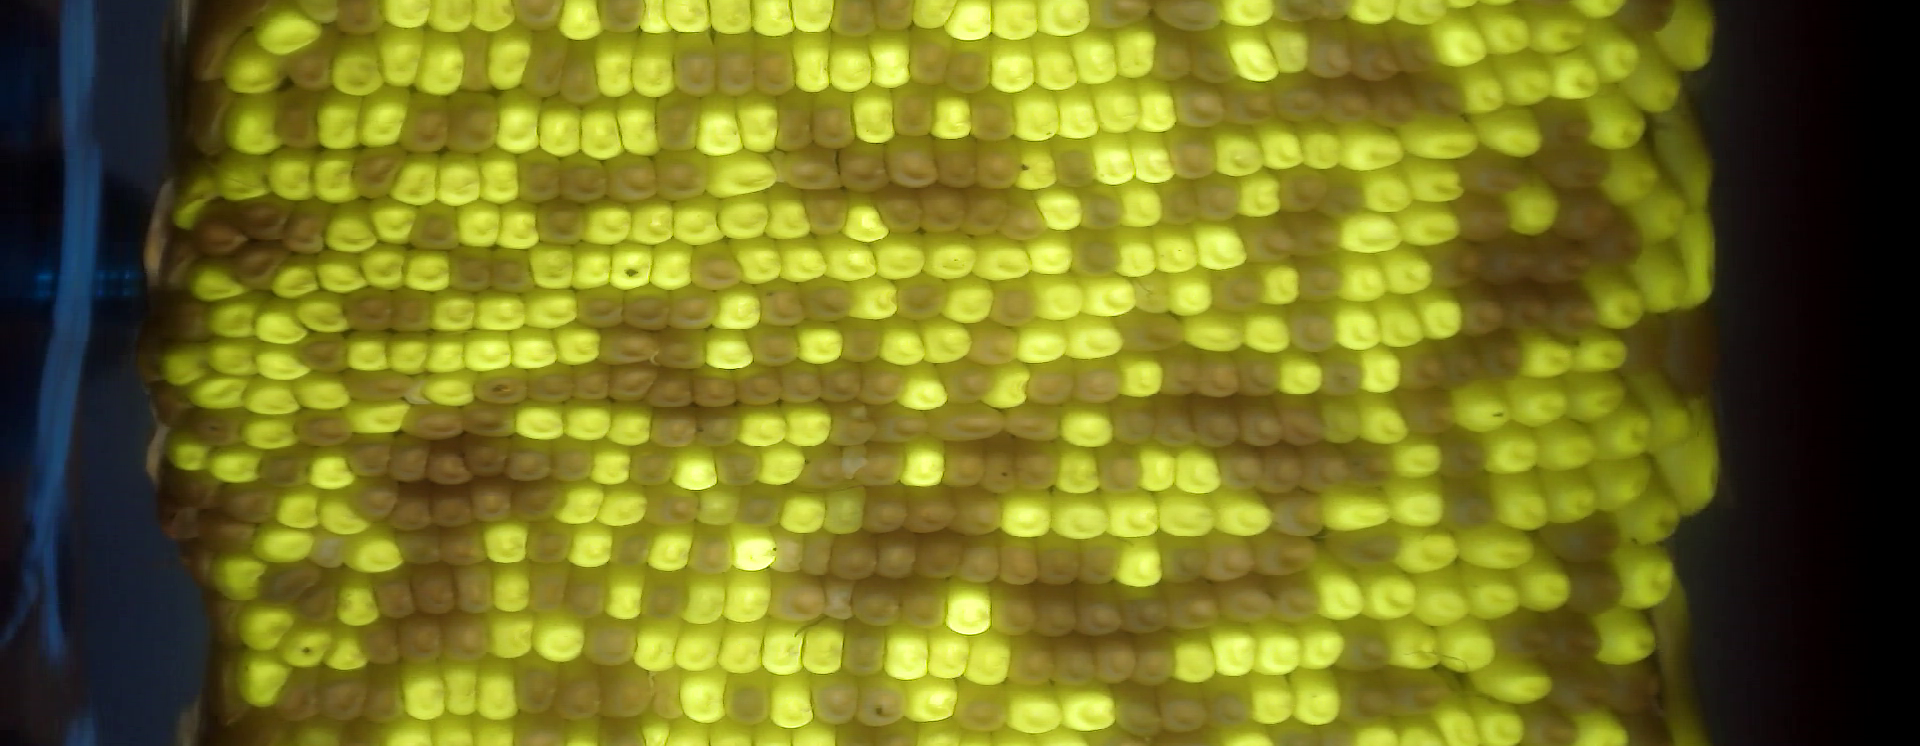fluorescent: (1659, 122, 1724, 211), (1665, 418, 1724, 512), (1629, 374, 1692, 451), (1582, 258, 1646, 334), (1633, 243, 1693, 317), (1473, 103, 1545, 160), (1615, 545, 1681, 606), (1310, 551, 1365, 624), (1681, 211, 1722, 309), (1412, 559, 1468, 628), (1403, 111, 1483, 160), (1593, 604, 1657, 664), (224, 34, 291, 91), (225, 92, 284, 156), (1624, 483, 1678, 549), (1152, 486, 1220, 539), (1480, 659, 1555, 706), (1494, 469, 1551, 529), (1457, 524, 1533, 570), (1663, 6, 1717, 70), (1593, 91, 1651, 149), (256, 4, 323, 54), (1431, 7, 1488, 67), (1630, 181, 1686, 241), (1515, 557, 1575, 614), (1509, 379, 1577, 428), (1442, 617, 1500, 675), (1592, 401, 1651, 457), (1054, 486, 1113, 543), (493, 88, 542, 156), (1504, 176, 1558, 238), (1587, 17, 1640, 80), (1226, 24, 1281, 83), (1056, 682, 1119, 733), (1079, 272, 1147, 318), (1209, 488, 1273, 537), (1382, 616, 1439, 673), (531, 606, 587, 664), (1529, 2, 1588, 56), (1320, 488, 1396, 529), (1520, 327, 1580, 380), (1289, 669, 1342, 729), (230, 599, 291, 650), (1598, 454, 1654, 510), (558, 518, 613, 575), (331, 37, 383, 96), (419, 33, 465, 99), (718, 612, 768, 674), (711, 149, 779, 195), (1342, 124, 1409, 169), (694, 92, 742, 156), (962, 624, 1010, 687), (234, 655, 291, 708), (1539, 420, 1598, 472), (944, 578, 993, 639), (1167, 628, 1220, 685), (631, 36, 677, 99), (1565, 376, 1629, 423), (1298, 612, 1344, 676), (1104, 492, 1162, 544), (1404, 156, 1464, 205), (866, 29, 913, 91), (1402, 201, 1463, 249), (378, 24, 422, 91), (1411, 287, 1464, 341), (846, 272, 902, 323), (1356, 393, 1412, 445), (1010, 86, 1060, 143), (1209, 619, 1258, 677), (360, 87, 407, 148), (1457, 381, 1512, 432), (605, 236, 655, 293), (1610, 149, 1660, 206), (402, 664, 452, 720), (765, 674, 816, 730), (1498, 55, 1555, 104), (1030, 274, 1089, 322), (441, 661, 489, 720), (596, 33, 638, 100), (578, 195, 631, 247), (677, 674, 731, 725), (1392, 480, 1447, 530), (1005, 684, 1060, 734), (1033, 34, 1082, 91), (1151, 218, 1200, 274), (880, 624, 929, 680), (853, 86, 898, 148), (735, 92, 779, 154), (1356, 164, 1413, 212), (324, 207, 382, 255), (975, 230, 1033, 277), (765, 619, 812, 677), (1367, 566, 1413, 625), (538, 97, 580, 160), (251, 522, 315, 565), (1213, 122, 1265, 175), (312, 151, 362, 205), (1340, 254, 1393, 304), (1158, 267, 1213, 316), (1188, 309, 1249, 353), (489, 604, 538, 659), (1463, 571, 1518, 620), (1493, 424, 1540, 480), (582, 99, 624, 162), (214, 153, 273, 198), (800, 616, 845, 675), (489, 24, 530, 88), (1545, 470, 1596, 523), (1000, 490, 1054, 539), (1056, 441, 1103, 496), (1341, 212, 1402, 255), (828, 36, 873, 93), (1135, 77, 1180, 135), (726, 567, 771, 625), (1255, 620, 1300, 677), (618, 97, 662, 156), (268, 151, 318, 202), (940, 274, 992, 325), (509, 323, 561, 374), (317, 96, 366, 148), (792, 32, 833, 96), (204, 298, 264, 341), (1075, 29, 1120, 86), (312, 251, 370, 295), (1261, 113, 1302, 175), (1114, 20, 1157, 78), (1551, 51, 1603, 100), (600, 480, 651, 529), (909, 675, 960, 724), (988, 40, 1036, 93), (216, 555, 268, 603), (713, 285, 767, 332), (323, 622, 370, 676), (475, 148, 520, 203), (475, 666, 520, 722), (924, 627, 970, 682), (1396, 532, 1460, 571), (171, 169, 214, 227), (336, 570, 378, 627), (629, 196, 680, 245), (1333, 303, 1384, 352), (676, 624, 725, 674), (392, 156, 438, 208), (1376, 295, 1423, 348), (900, 437, 947, 490), (1056, 88, 1100, 143), (1297, 118, 1340, 174), (1067, 318, 1123, 361), (1633, 62, 1682, 111), (778, 236, 827, 285), (729, 526, 778, 575), (556, 477, 605, 526), (1480, 7, 1531, 55), (269, 254, 320, 301), (1196, 223, 1247, 271), (1386, 245, 1434, 295), (924, 234, 976, 281), (1030, 187, 1082, 233), (1249, 671, 1293, 725), (824, 238, 879, 281), (683, 572, 726, 627), (189, 257, 249, 296), (605, 566, 647, 622), (719, 192, 768, 240), (479, 519, 528, 567), (283, 619, 331, 668), (924, 314, 971, 364), (1100, 83, 1145, 135), (1015, 138, 1060, 190), (670, 197, 721, 243), (402, 247, 454, 292), (880, 229, 924, 282), (553, 318, 598, 371), (1462, 64, 1505, 118), (1577, 332, 1631, 375), (1177, 450, 1224, 497), (529, 244, 576, 293), (523, 292, 583, 330), (1233, 171, 1283, 217), (636, 620, 680, 671), (1473, 702, 1524, 746), (347, 402, 408, 439), (507, 407, 568, 443), (157, 341, 211, 382), (1135, 127, 1173, 186), (500, 198, 540, 254), (573, 238, 613, 293), (296, 293, 351, 333), (609, 401, 655, 448), (370, 196, 415, 245), (460, 198, 504, 249), (1256, 257, 1300, 307), (349, 533, 402, 575), (736, 240, 782, 287), (347, 330, 393, 376), (882, 322, 928, 369), (361, 246, 409, 292), (467, 330, 514, 375), (433, 153, 478, 202), (1120, 180, 1163, 230), (430, 293, 481, 334), (1270, 18, 1308, 75), (475, 292, 531, 330), (256, 307, 312, 345), (1118, 539, 1163, 586), (1116, 233, 1160, 281), (208, 443, 257, 486), (253, 343, 309, 381), (650, 241, 692, 292), (207, 334, 257, 376), (1358, 345, 1400, 396), (1239, 316, 1296, 353), (786, 404, 831, 450), (1275, 353, 1321, 397), (589, 443, 633, 490), (1093, 138, 1136, 186), (738, 405, 789, 446), (238, 416, 299, 450), (827, 485, 863, 540), (767, 196, 811, 241), (1065, 403, 1109, 448), (782, 492, 827, 538), (1020, 322, 1067, 365), (936, 91, 975, 141), (489, 566, 528, 616), (389, 330, 433, 374), (1398, 435, 1441, 480), (756, 443, 802, 485), (1041, 1, 1093, 38), (298, 374, 354, 408), (424, 334, 471, 375), (278, 491, 326, 532), (707, 328, 749, 372), (1120, 356, 1164, 399), (947, 1, 992, 43), (904, 371, 950, 412), (675, 450, 718, 492), (654, 522, 692, 570), (1439, 697, 1476, 746), (800, 323, 842, 365), (991, 2, 1041, 38), (1031, 232, 1071, 276), (321, 501, 372, 535), (197, 379, 250, 412), (562, 2, 604, 44), (987, 366, 1030, 407), (167, 432, 211, 472), (425, 374, 479, 405), (845, 206, 887, 246), (751, 1, 800, 36), (666, 1, 716, 34), (703, 488, 741, 530), (310, 454, 354, 490), (426, 714, 475, 746), (245, 385, 302, 412), (568, 402, 609, 440), (792, 1, 836, 36), (431, 1, 476, 33), (711, 1, 752, 37), (468, 718, 516, 746), (380, 1, 429, 28), (1222, 1, 1269, 29), (380, 718, 425, 746), (471, 1, 514, 29), (634, 717, 673, 746), (642, 1, 670, 37)
nonfluorescent: (1660, 304, 1720, 399), (1656, 583, 1695, 686), (1544, 516, 1622, 566), (1533, 143, 1611, 192), (1330, 671, 1398, 726), (157, 461, 227, 514), (1452, 145, 1521, 198), (1558, 563, 1624, 619), (714, 24, 762, 100), (1321, 524, 1398, 570), (598, 661, 654, 723), (182, 80, 229, 153), (1551, 657, 1610, 714), (449, 88, 500, 156), (720, 673, 776, 733), (152, 290, 214, 344), (749, 29, 798, 98), (1346, 17, 1400, 78), (1391, 11, 1440, 78), (1112, 583, 1173, 637), (1319, 73, 1378, 129), (1217, 73, 1277, 127), (765, 572, 828, 624), (523, 24, 566, 99), (400, 87, 447, 156), (672, 28, 719, 97), (1273, 71, 1329, 129), (1551, 186, 1611, 239), (962, 87, 1018, 143), (1168, 78, 1224, 134), (1538, 96, 1596, 149), (883, 137, 940, 191), (634, 570, 692, 624), (1286, 208, 1344, 261), (1198, 533, 1256, 586), (1305, 17, 1357, 77), (272, 88, 318, 154), (513, 650, 560, 717), (1125, 307, 1189, 355), (1483, 229, 1539, 283), (834, 143, 891, 196), (318, 671, 370, 730), (553, 655, 600, 720), (1191, 23, 1240, 85), (1488, 612, 1550, 660), (951, 677, 1005, 733), (1047, 134, 1100, 190), (1434, 425, 1487, 481), (1550, 608, 1602, 665), (686, 241, 744, 292), (291, 24, 334, 93), (771, 85, 814, 153), (1596, 209, 1644, 269), (1521, 699, 1583, 746), (905, 481, 960, 534), (1502, 281, 1554, 337), (884, 82, 934, 140), (602, 153, 660, 203), (560, 149, 610, 207), (658, 92, 703, 156), (786, 145, 846, 192), (193, 512, 258, 556), (904, 27, 950, 88), (1428, 234, 1482, 287), (440, 612, 493, 665), (1168, 127, 1220, 183), (862, 674, 913, 729), (1251, 532, 1314, 577), (947, 37, 994, 96), (1536, 235, 1594, 283), (361, 666, 409, 725), (224, 478, 284, 524), (411, 560, 458, 620), (519, 145, 564, 206), (1025, 356, 1078, 409), (1340, 619, 1392, 671), (1400, 339, 1451, 393), (582, 619, 638, 668), (1240, 212, 1292, 265), (667, 281, 719, 333), (987, 278, 1040, 330), (1191, 397, 1244, 448), (1547, 278, 1588, 343), (1455, 192, 1510, 241), (1277, 162, 1326, 217), (234, 194, 289, 243), (1436, 478, 1491, 527), (568, 562, 612, 624), (1107, 686, 1162, 735), (856, 486, 912, 534), (277, 671, 324, 728), (283, 198, 329, 256), (504, 430, 551, 488), (872, 399, 929, 446), (845, 441, 902, 488), (561, 37, 599, 107), (828, 530, 879, 582), (802, 186, 852, 239), (872, 183, 924, 233), (802, 272, 852, 325), (896, 272, 949, 322), (1455, 285, 1509, 334), (656, 149, 710, 198), (191, 207, 245, 256), (1276, 396, 1325, 450), (1393, 668, 1447, 717), (528, 557, 571, 619), (1162, 587, 1223, 630), (192, 24, 236, 83), (816, 83, 855, 149), (936, 401, 1002, 440), (1300, 441, 1351, 492), (1371, 75, 1420, 127), (444, 244, 493, 296), (714, 439, 767, 488), (939, 356, 992, 405), (1318, 345, 1367, 398), (1471, 330, 1520, 382), (1033, 534, 1082, 587), (350, 148, 398, 202), (972, 134, 1020, 187), (1152, 175, 1200, 229), (1215, 443, 1262, 497), (460, 23, 496, 96), (644, 481, 700, 527), (257, 450, 313, 495), (1109, 398, 1160, 448), (830, 399, 880, 450), (340, 285, 392, 334), (1218, 582, 1277, 625), (1202, 677, 1254, 726), (624, 285, 672, 338), (307, 562, 345, 628), (1324, 165, 1370, 219), (384, 432, 431, 486), (956, 533, 1003, 587), (371, 567, 415, 624), (1150, 24, 1193, 82), (256, 559, 313, 601), (1625, 314, 1663, 379), (349, 480, 399, 529), (425, 439, 476, 486), (688, 523, 735, 576), (816, 670, 861, 724), (298, 408, 358, 448), (1003, 401, 1063, 441), (915, 526, 958, 582), (599, 327, 660, 366), (1096, 441, 1145, 490), (1270, 575, 1319, 624), (1418, 75, 1468, 122), (749, 320, 800, 367), (462, 432, 509, 483), (1288, 303, 1335, 354), (1071, 229, 1123, 276), (1153, 393, 1200, 445), (1236, 343, 1276, 402), (1018, 439, 1062, 492), (1081, 180, 1123, 236), (568, 287, 624, 328), (950, 488, 999, 535), (1093, 639, 1141, 688), (397, 616, 444, 665), (757, 281, 807, 327), (1217, 262, 1262, 314), (1261, 443, 1307, 495), (1402, 393, 1455, 437), (463, 396, 517, 439), (478, 365, 531, 408), (452, 563, 493, 619), (1298, 256, 1346, 304), (487, 249, 536, 295), (442, 521, 489, 570), (871, 533, 917, 582), (939, 134, 977, 194), (1160, 533, 1205, 583), (998, 534, 1042, 586), (1076, 537, 1120, 588), (907, 578, 951, 630), (347, 370, 418, 402), (1198, 171, 1240, 224), (409, 399, 467, 439), (1004, 187, 1044, 243), (552, 435, 593, 490), (921, 187, 967, 235), (408, 202, 456, 249), (661, 328, 708, 376), (566, 359, 613, 405), (940, 440, 987, 488), (797, 443, 845, 490), (1075, 354, 1120, 403), (1611, 660, 1660, 706), (1434, 338, 1478, 388), (231, 245, 283, 288), (509, 481, 561, 524), (535, 205, 587, 247), (387, 524, 440, 566), (1162, 686, 1209, 733), (857, 581, 904, 627), (962, 187, 1008, 235), (149, 381, 195, 429), (345, 432, 389, 481), (362, 620, 407, 669), (1611, 707, 1667, 746), (1196, 348, 1238, 399), (841, 619, 883, 670), (298, 334, 351, 374), (525, 360, 572, 405), (389, 285, 433, 333), (610, 356, 654, 404), (207, 650, 239, 717), (430, 488, 479, 530), (1240, 391, 1280, 443), (693, 364, 738, 409), (989, 590, 1033, 637), (1129, 641, 1176, 685), (740, 483, 782, 530), (386, 491, 433, 534), (771, 363, 820, 404), (189, 409, 245, 445), (976, 320, 1020, 365), (240, 706, 289, 746), (1269, 497, 1324, 533), (981, 434, 1014, 492), (529, 517, 573, 561), (1010, 638, 1054, 682), (1075, 597, 1120, 639), (820, 360, 867, 402), (1160, 345, 1196, 398), (1150, 1, 1218, 29), (1056, 639, 1098, 684), (736, 363, 781, 404), (1351, 443, 1391, 490), (845, 316, 884, 364), (629, 446, 677, 485), (159, 230, 191, 289), (650, 668, 684, 722), (612, 521, 649, 571), (651, 371, 696, 412), (1036, 597, 1078, 637), (1095, 1, 1144, 36), (863, 356, 900, 402), (1614, 1, 1670, 29), (651, 412, 693, 450), (471, 485, 513, 523), (697, 404, 733, 446), (824, 578, 861, 620), (512, 1, 563, 31), (828, 1, 873, 34), (598, 1, 643, 34), (331, 1, 376, 34), (800, 530, 833, 575), (513, 717, 560, 746), (211, 597, 236, 648), (598, 718, 640, 746), (876, 1, 916, 29), (831, 720, 873, 746), (872, 718, 910, 746)
